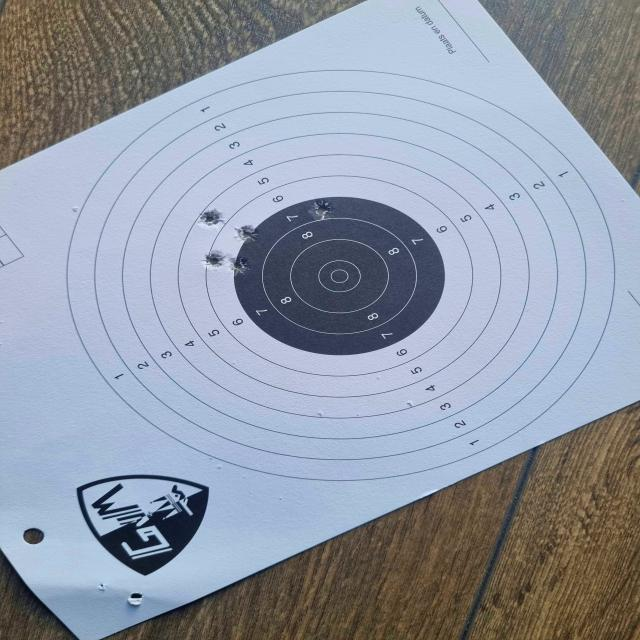5: (200, 211, 224, 226)
6: (204, 251, 224, 268)
7: (310, 199, 334, 220), (228, 257, 251, 275), (234, 225, 258, 242)
Target: (63, 69, 617, 482)
black_contour: (234, 198, 446, 356)
